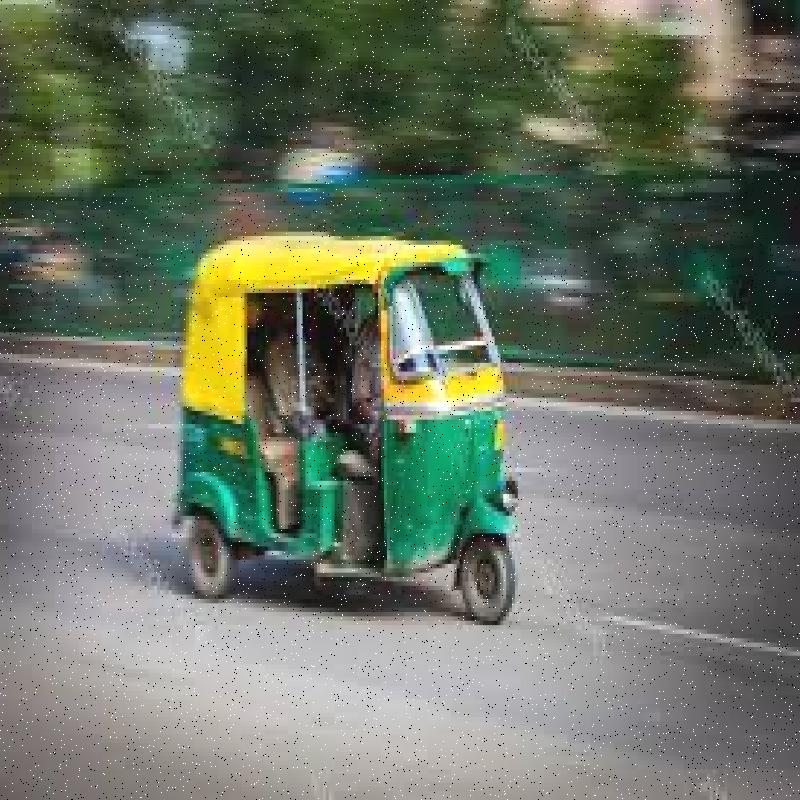auto: (140, 204, 542, 602)
